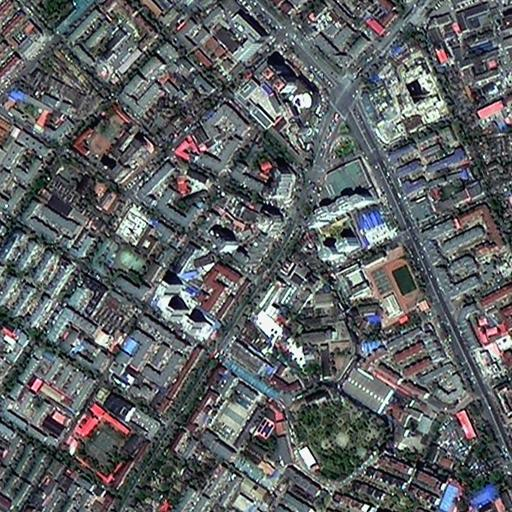school: (336, 243, 432, 316), (70, 105, 129, 165)
